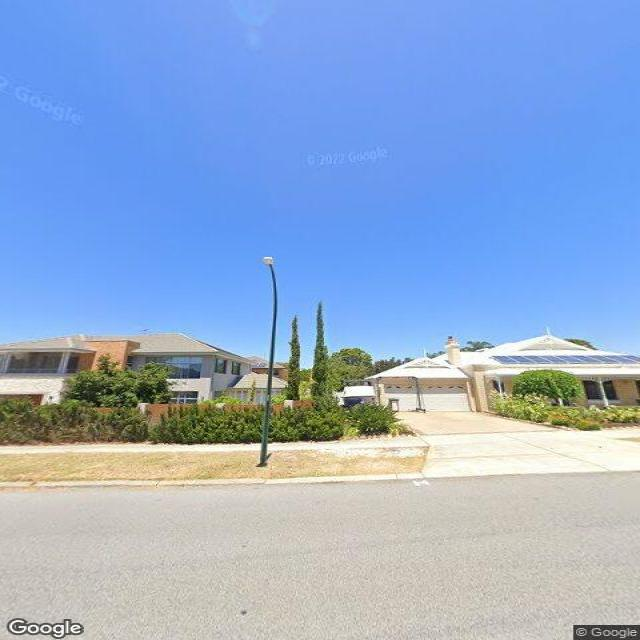steel-pole: (259, 302, 278, 466)
streetlight: (261, 256, 279, 305)
